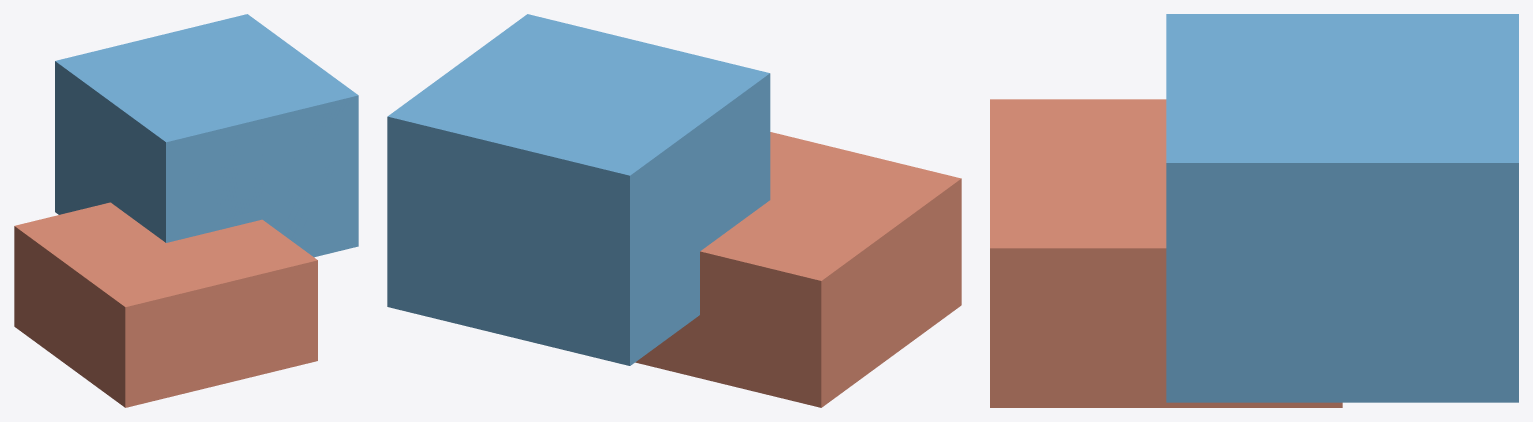
Rendered from two.glb.
3 renders of one model, left to right at view 1: azimuth 30°, elevation 25°; view 2: azimuth 150°, elevation 25°; view 3: azimuth 270°, elevation 25°, orthographic. The views are drawn at different scales.
Parts seen in each view (by area): view 1: box_b, box_a; view 2: box_b, box_a; view 3: box_b, box_a.
Boxes of the visible parts, left/top/right/bottom form: box_b: left=55, top=14, right=358, bottom=257; box_a: left=14, top=202, right=317, bottom=407; box_b: left=387, top=14, right=770, bottom=365; box_a: left=635, top=132, right=961, bottom=407; box_b: left=1166, top=14, right=1518, bottom=402; box_a: left=990, top=99, right=1342, bottom=407.
Bounding box in the file's own units: 3 × 2 × 3.
